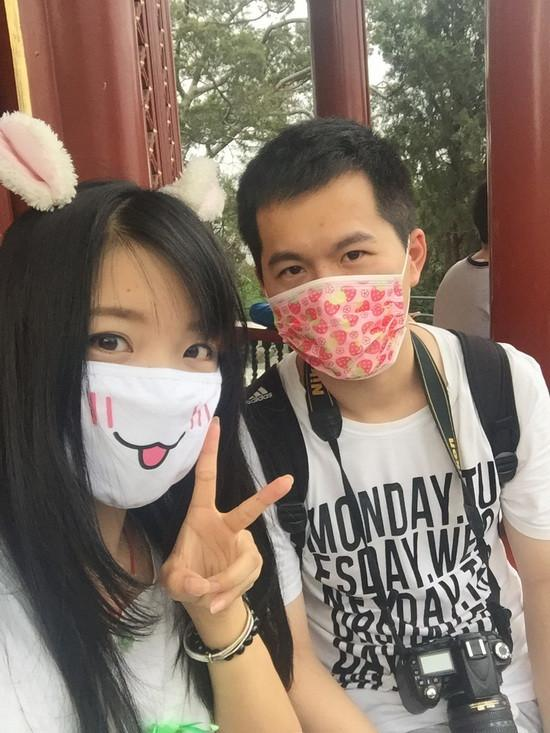OK: (73, 303, 233, 495), (266, 232, 410, 376)
